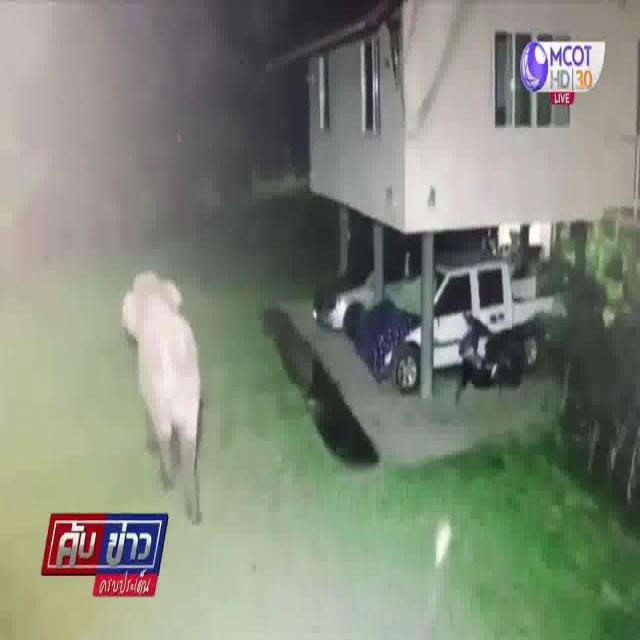Elephant: (117, 265, 205, 487)
